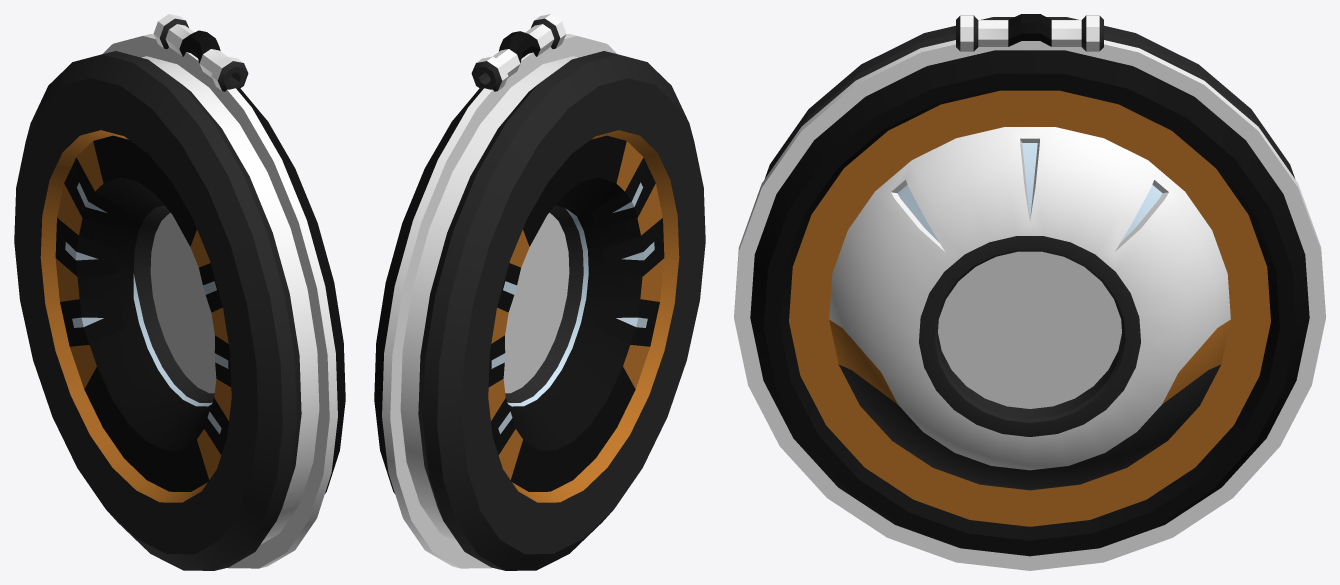
File: SpaceBase_Door02.FBX
The picture shows the model from 3 angles, left to right: view 1: azimuth 30°, elevation 25°; view 2: azimuth 150°, elevation 25°; view 3: azimuth 270°, elevation 25°; orthographic projection. The views are drawn at different scales.
Visible parts, largest first — view 1: Cylinder014, Box055, Cylinder015; view 2: Cylinder014, Box055, Cylinder015; view 3: Cylinder014, Box055, Cylinder015.
Boxes of the visible parts, left/top/right/bottom form: Cylinder014: left=14, top=34, right=345, bottom=570; Box055: left=150, top=212, right=216, bottom=393; Cylinder015: left=153, top=14, right=248, bottom=91; Cylinder014: left=374, top=34, right=705, bottom=570; Box055: left=503, top=212, right=569, bottom=393; Cylinder015: left=471, top=14, right=566, bottom=91; Cylinder014: left=734, top=17, right=1325, bottom=570; Box055: left=938, top=251, right=1121, bottom=408; Cylinder015: left=956, top=14, right=1103, bottom=51.
Size of the model in its own units: 2.82 by 10.69 by 10.28.
